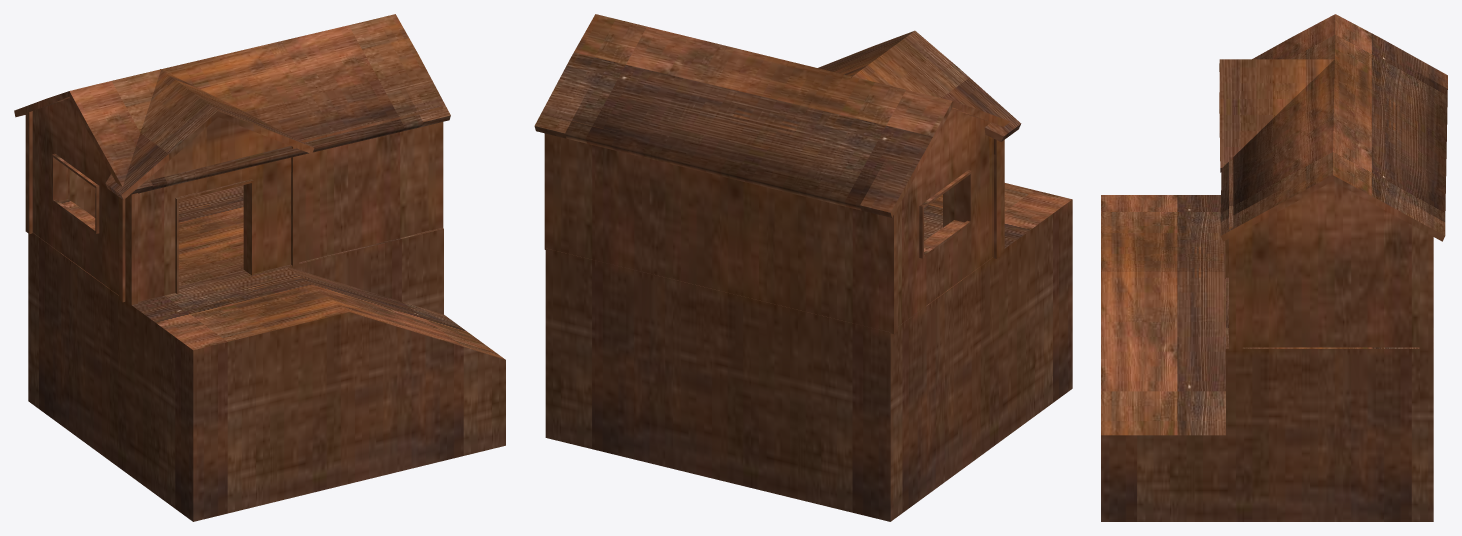
Rendered from Cabin_Elevated.fbx.
3 renders of one model, left to right at view 1: azimuth 30°, elevation 25°; view 2: azimuth 150°, elevation 25°; view 3: azimuth 270°, elevation 25°, orthographic. The views are drawn at different scales.
Visible parts, largest first — view 1: CabinWallPanel.003; view 2: CabinWallPanel.003; view 3: CabinWallPanel.003.
Part boxes in pixels (x1,y1,x2,y2): CabinWallPanel.003: (14,14,505,521); CabinWallPanel.003: (534,14,1072,521); CabinWallPanel.003: (1101,14,1447,521).
Size of the model in its own units: 2728 by 2743 by 2459.
